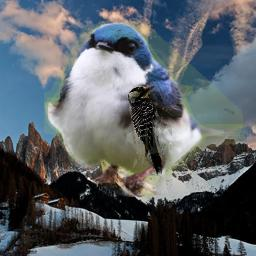Swallow: (44, 21, 245, 197)
Woodpecker: (127, 85, 172, 178)
